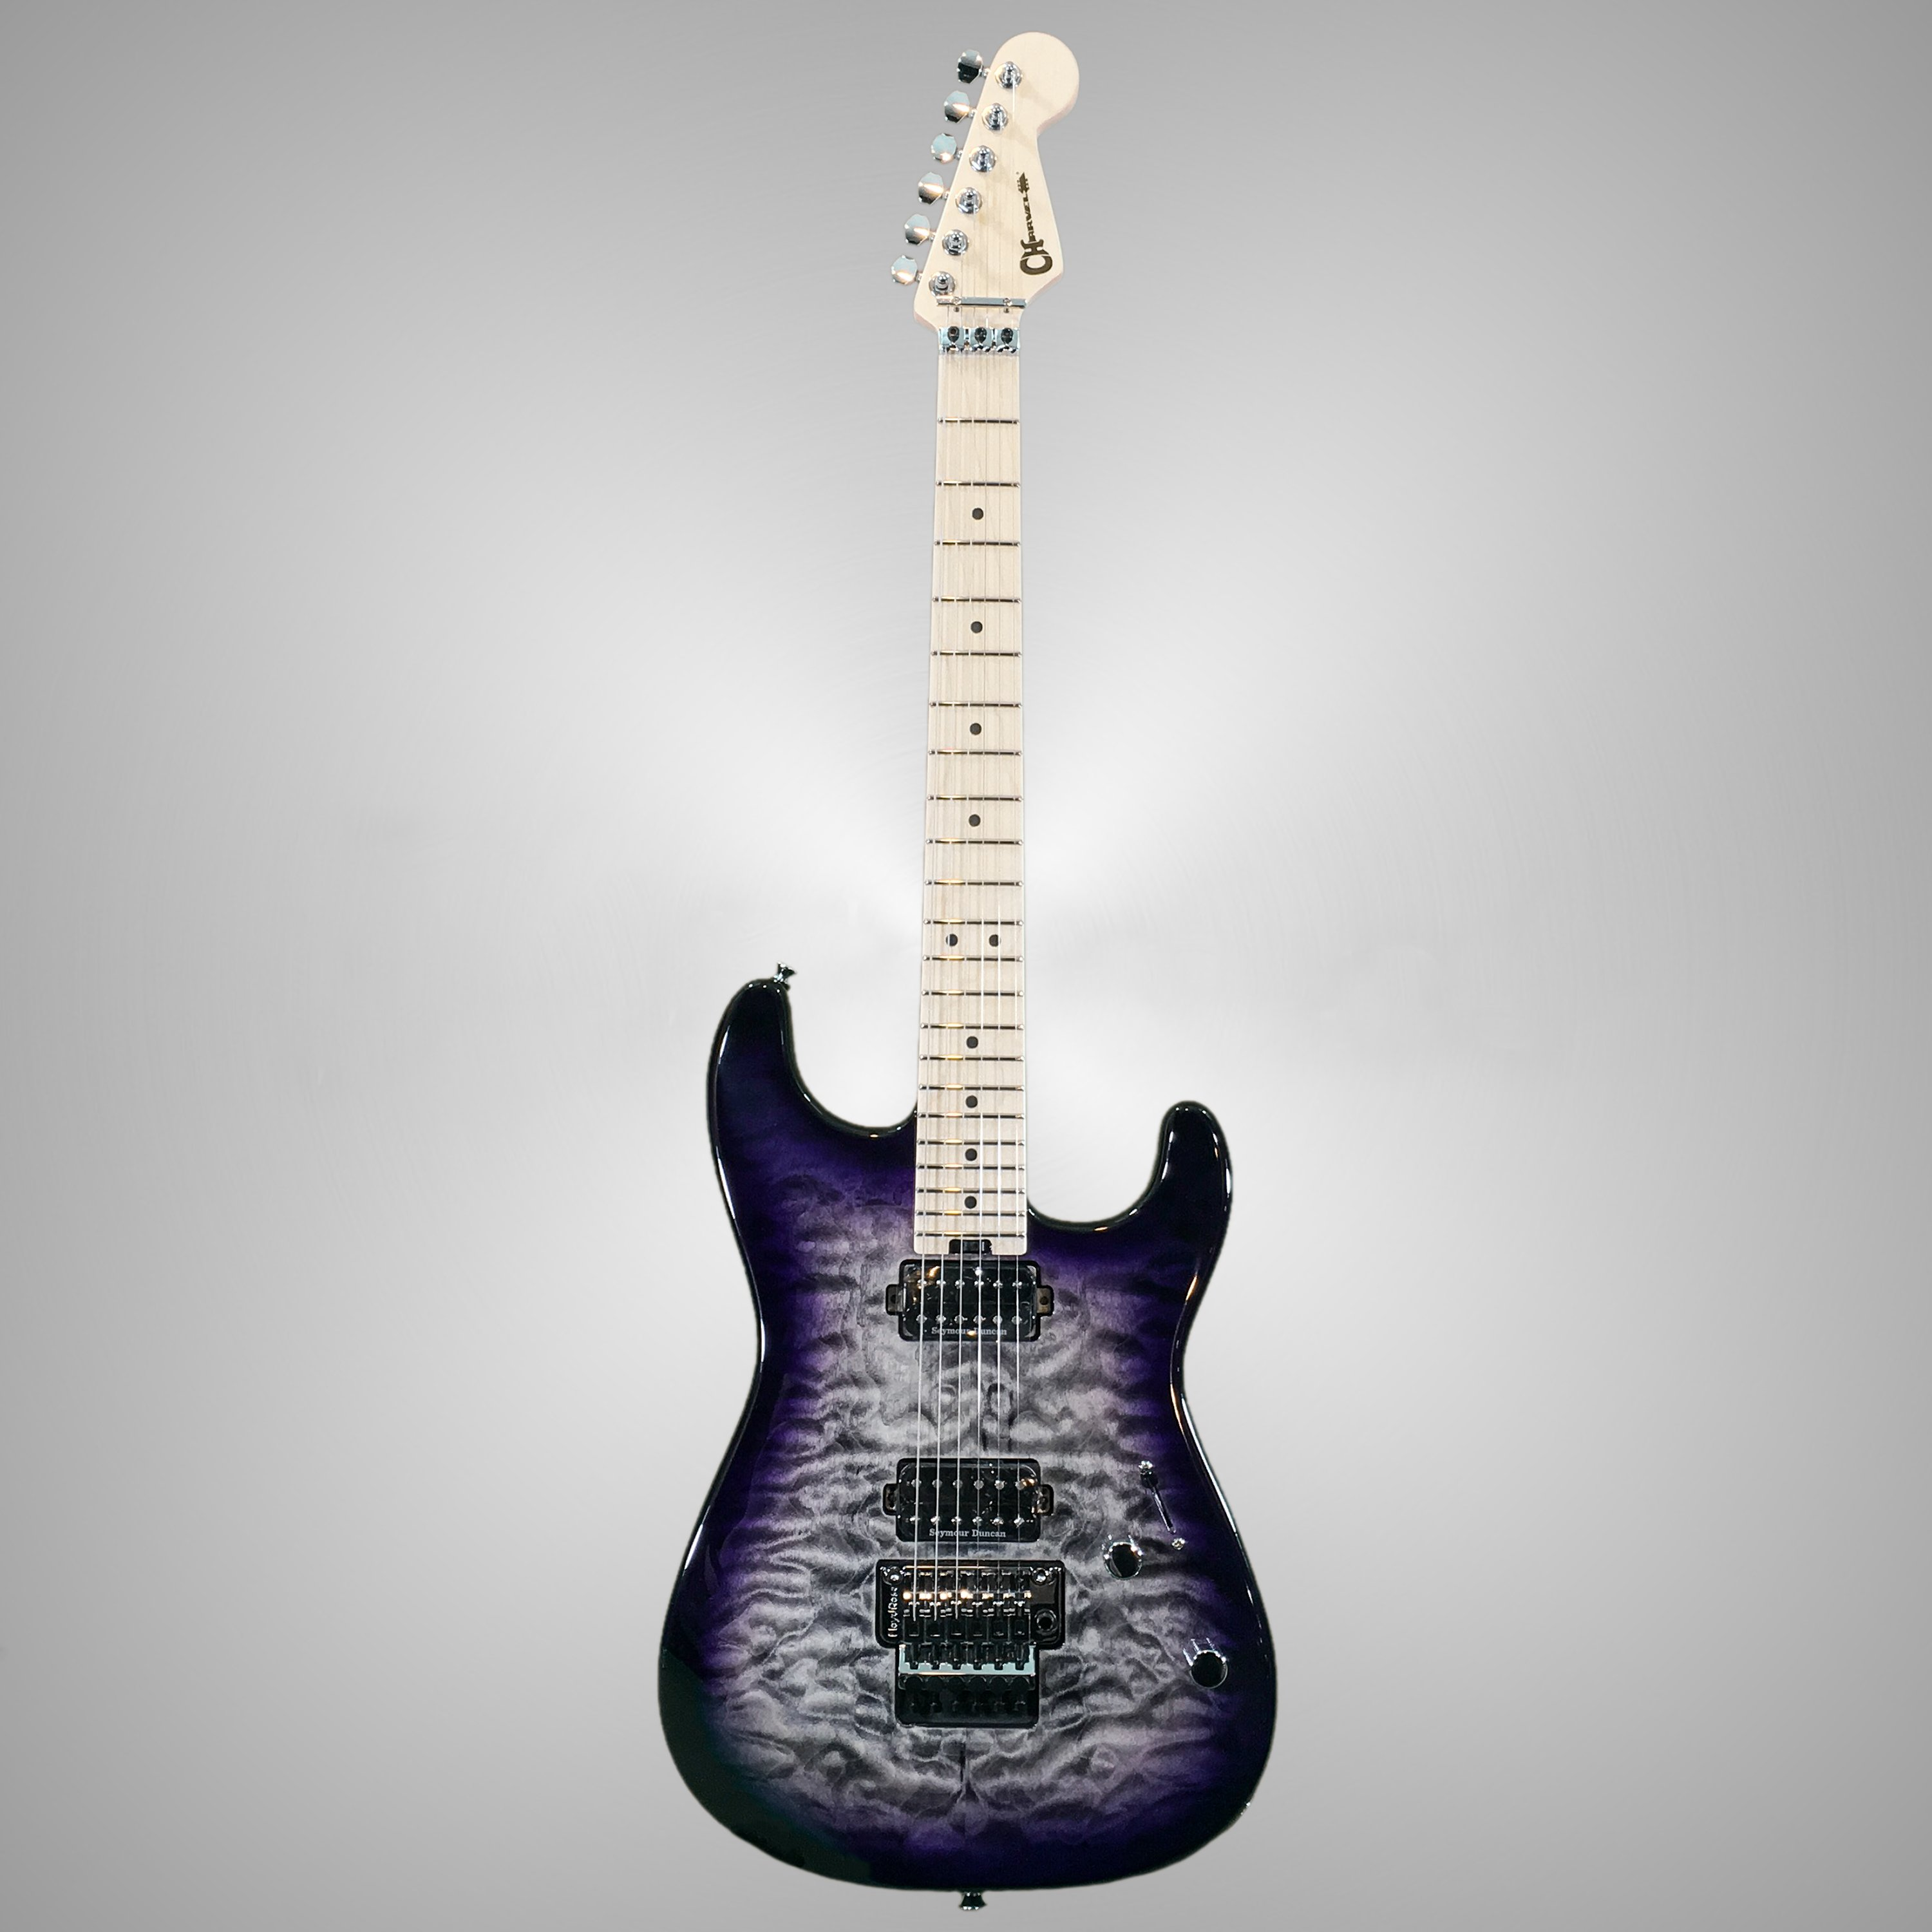ElectricGuitar: (662, 48, 1284, 1893)
